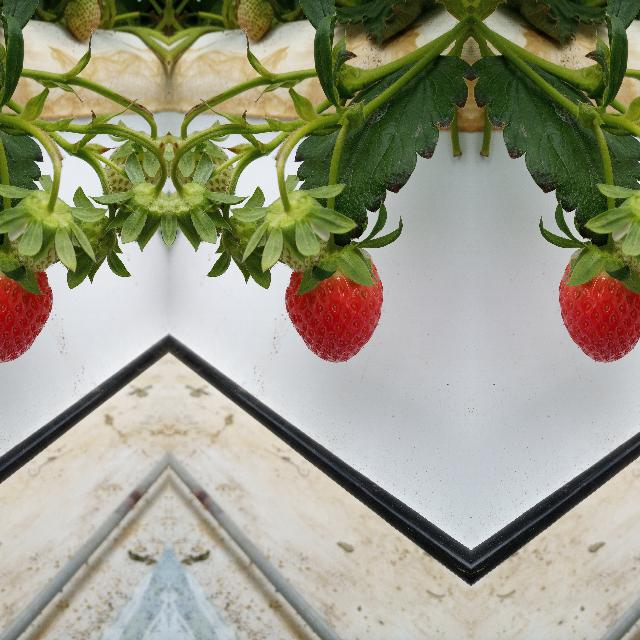Health_100: (284, 250, 384, 364), (556, 250, 640, 364), (0, 250, 52, 364)
